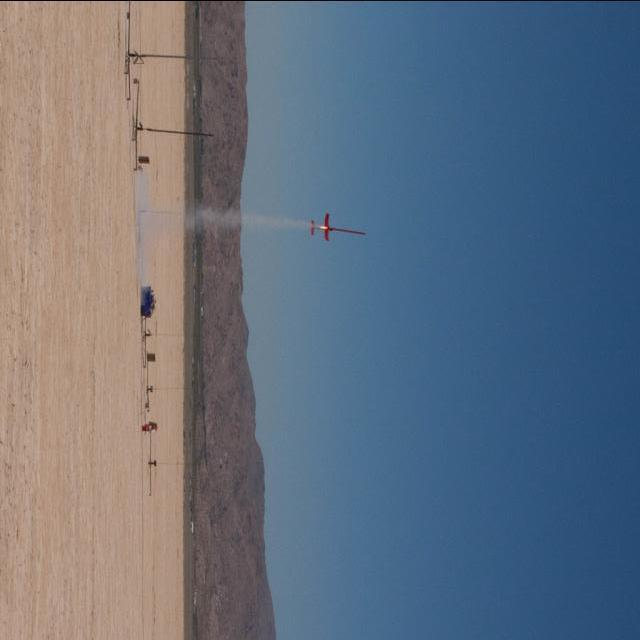missile: (323, 218, 365, 242)
